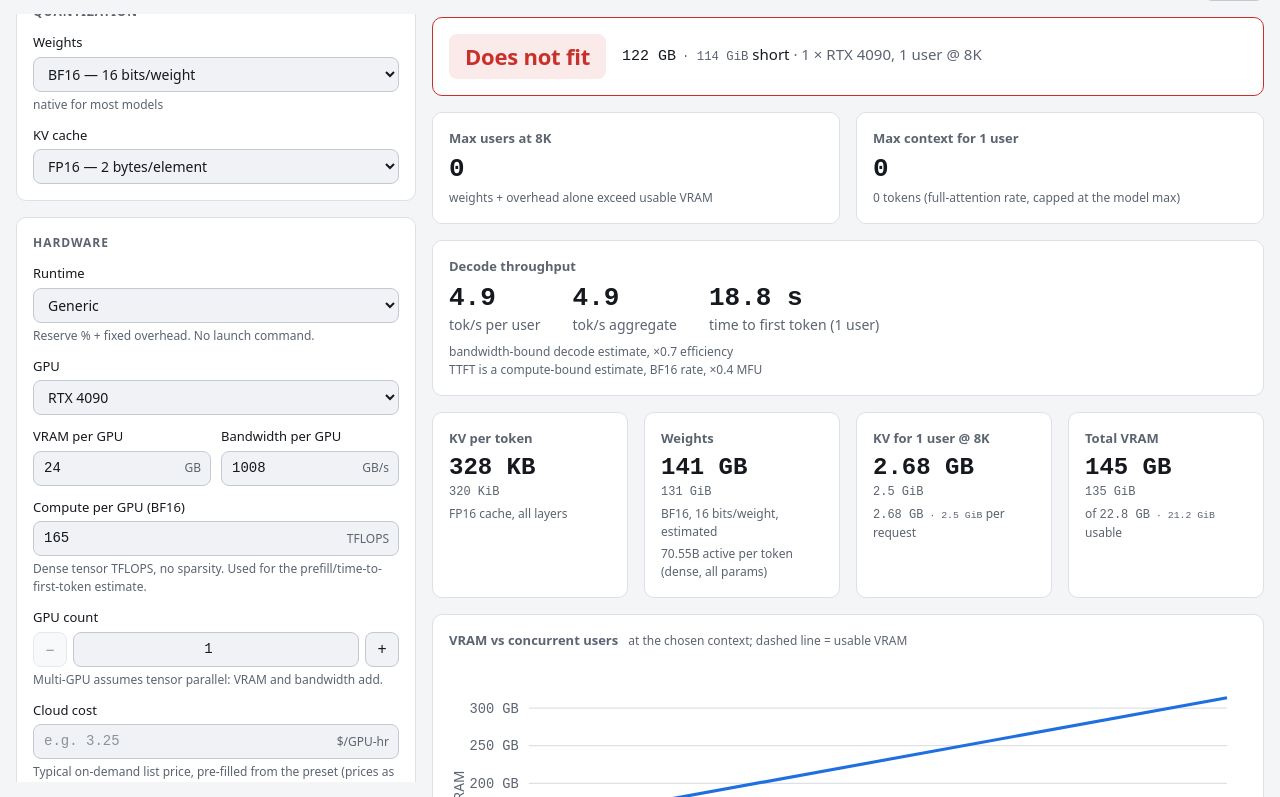
it: App › a single H200 fits 70B once weights are FP8
(page scrolled)
Select "H200" in the dropdown labelled "GPU" at (216, 398), box x1=33 y1=380 x2=399 y2=415
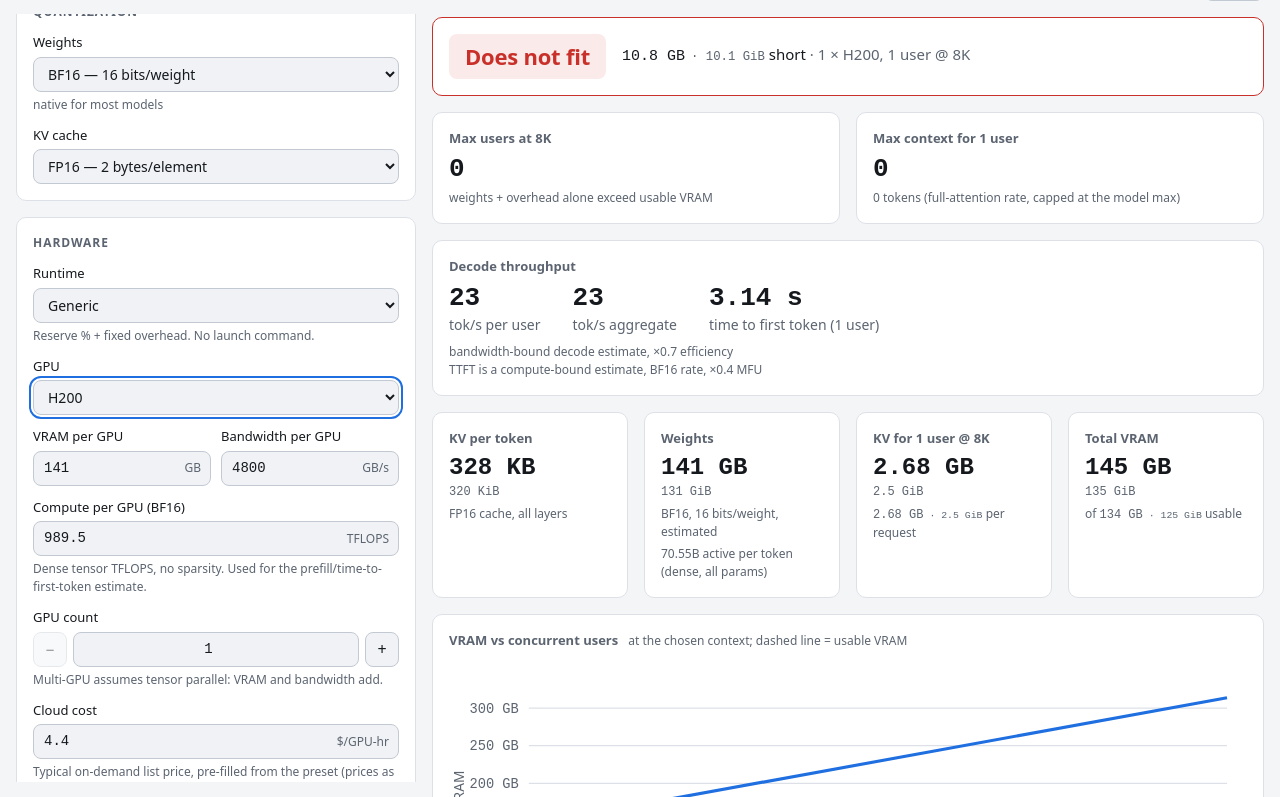
Select "FP8 — 8 bits/weight" in the dropdown labelled "Weights" at (216, 74), box x1=33 y1=56 x2=399 y2=92
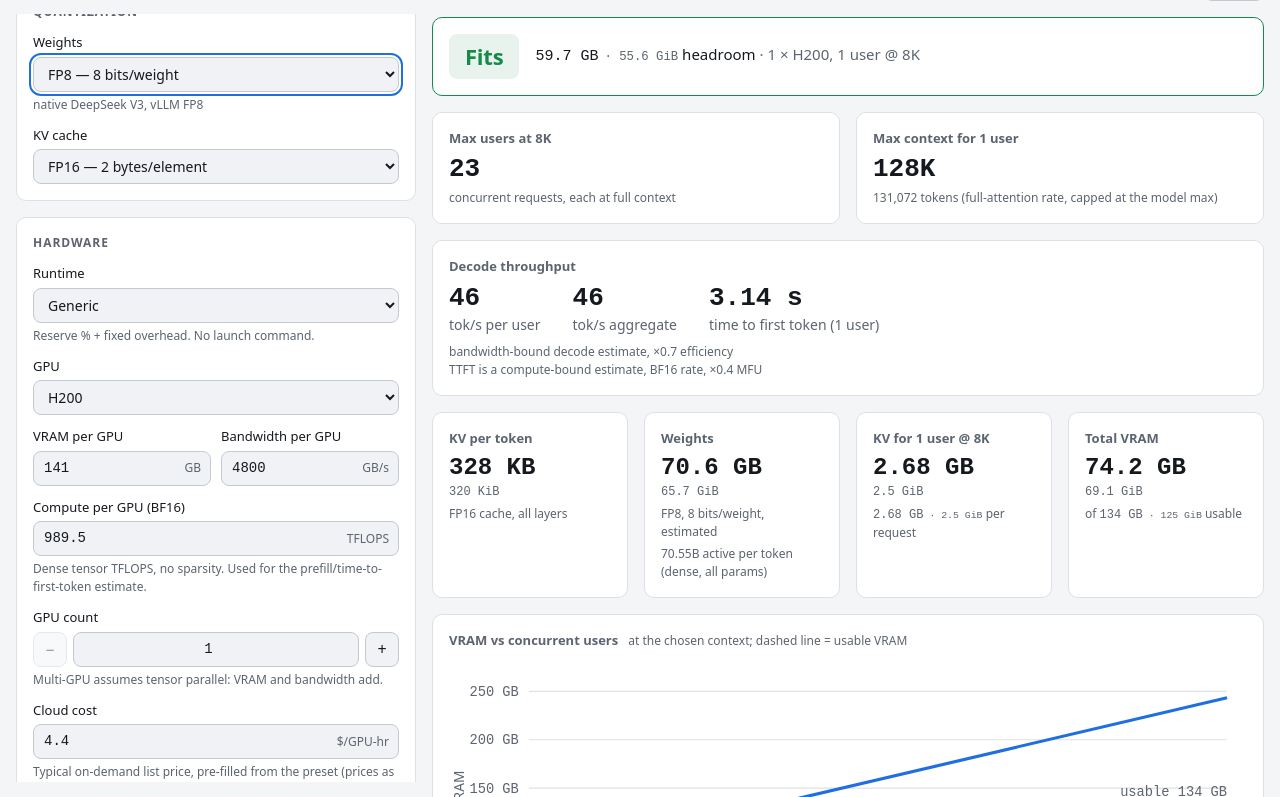
expect the message with class "badge" reads "Fits": met, box x1=465 y1=40 x2=503 y2=70
